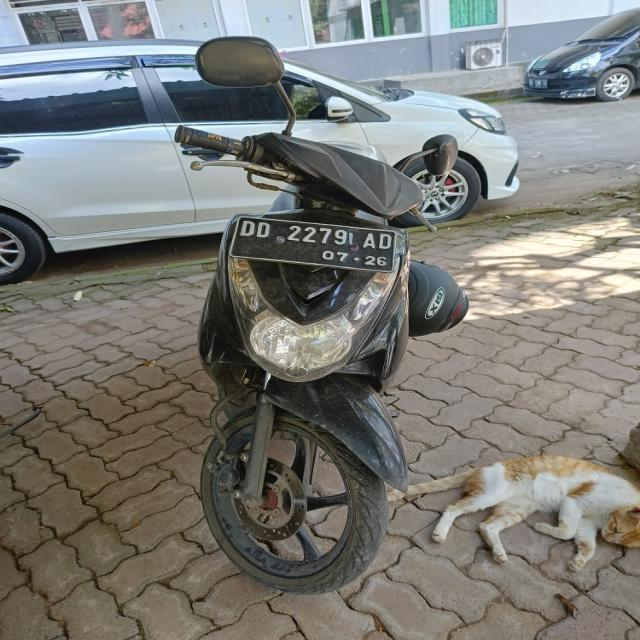plates: (235, 213, 396, 272)
